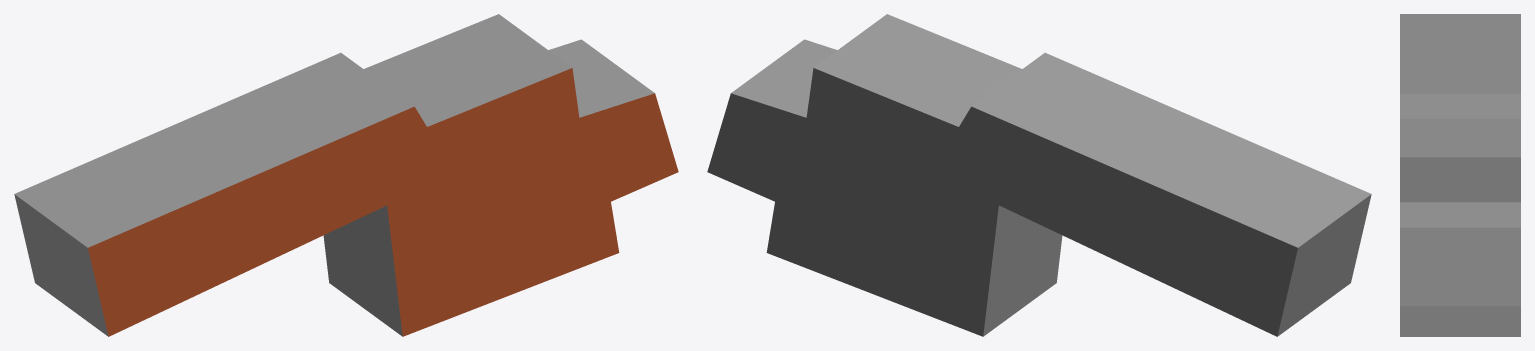
File: construction_6461_assumed_A_Casa_h6m.obj
The picture shows the model from 3 angles, left to right: view 1: azimuth 30°, elevation 25°; view 2: azimuth 150°, elevation 25°; view 3: azimuth 270°, elevation 25°; orthographic projection. The views are drawn at different scales.
Parts seen in each view (by area): view 1: construction_6461_assumed_A_Casa; view 2: construction_6461_assumed_A_Casa; view 3: construction_6461_assumed_A_Casa.
Boxes of the visible parts, x1=… form: construction_6461_assumed_A_Casa: x1=14, y1=14, x2=678, y2=336; construction_6461_assumed_A_Casa: x1=707, y1=14, x2=1371, y2=336; construction_6461_assumed_A_Casa: x1=1400, y1=14, x2=1520, y2=336.
Size of the model in its own units: 27.81 by 10.24 by 6.
